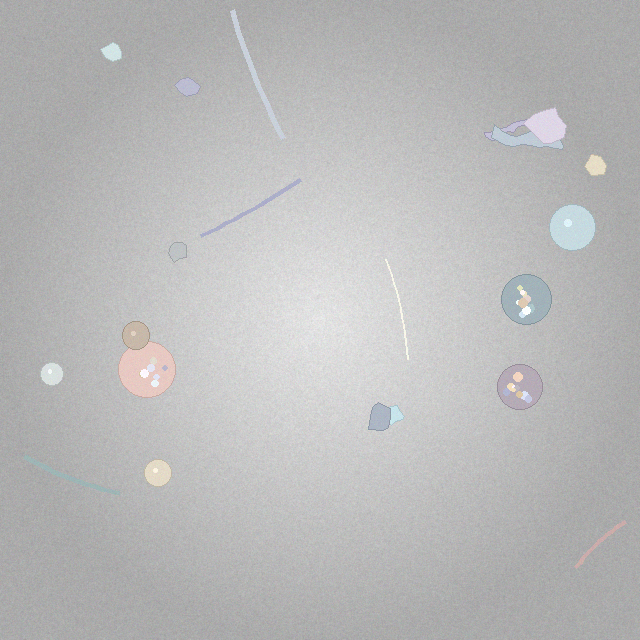fiber: (227, 5, 289, 144), (197, 176, 305, 240), (19, 451, 125, 498), (571, 518, 630, 573), (383, 257, 410, 362)
film: (491, 124, 563, 150), (484, 119, 536, 140)
foam: (119, 342, 175, 398), (501, 275, 551, 325), (498, 365, 542, 409)
fragment: (524, 108, 566, 144), (369, 403, 391, 431), (174, 77, 201, 97), (584, 155, 607, 175), (101, 42, 122, 62), (387, 405, 405, 425), (169, 243, 187, 262)
pellet: (550, 204, 595, 250), (122, 322, 150, 350), (145, 460, 172, 487), (40, 362, 64, 386)
